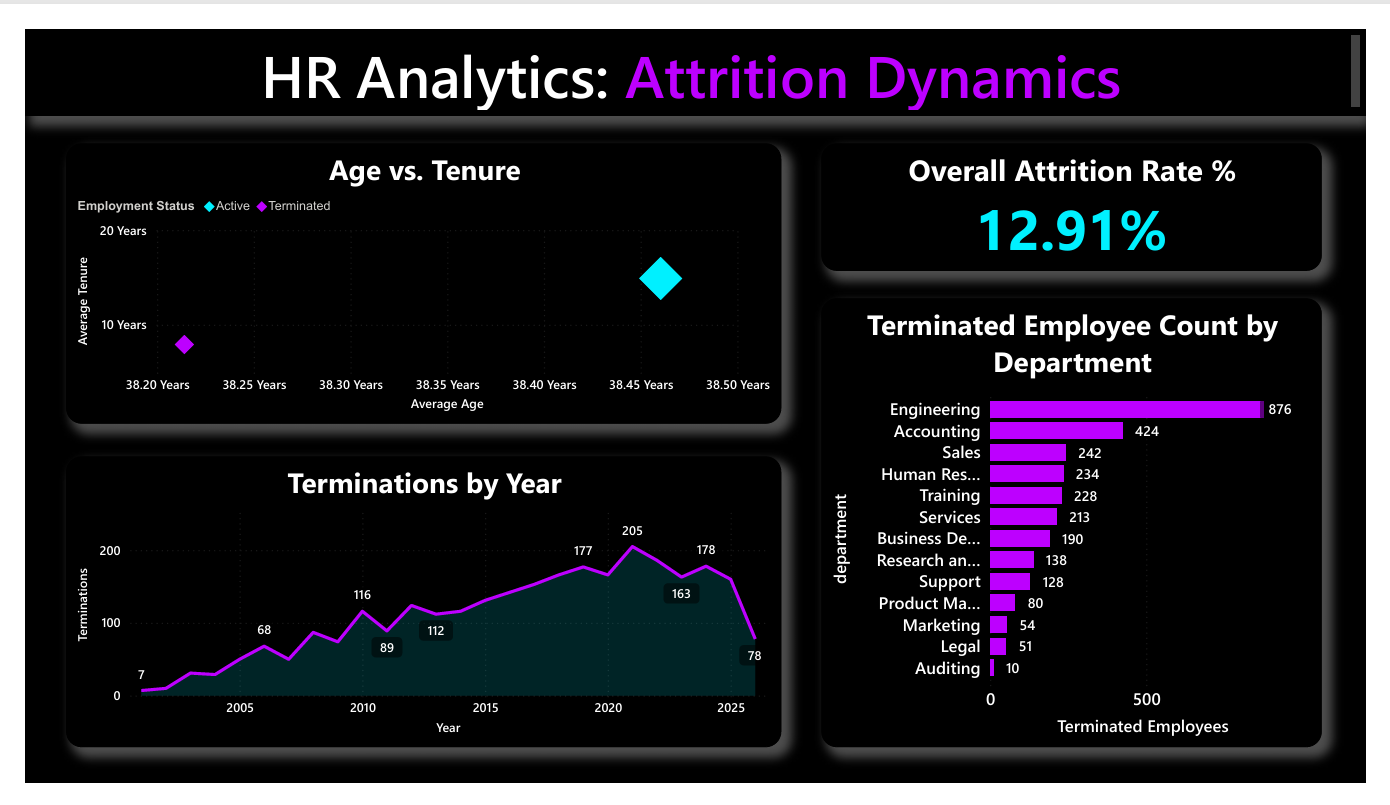

This screenshot's page, from the dashboard's own definition file:
{"tool":"powerbi","page":{"name":" Attrition & Tenure Analysis","canvas":[1280,720],"ordinal":2},"visuals":[{"type":"barChart","title":"Terminated Employee Count by Department","fields":{"Category":["Cleaned Data.department"],"Y":["CountNonNull(Cleaned Data.id)"]},"box":[759.6,257,478.2,429.4],"z":0},{"type":"lineChart","title":"Terminations by Year","fields":{"Category":["Cleaned Data.termdate.Variation.Date Hierarchy.Year"],"Y":["CountNonNull(Cleaned Data.id)"]},"box":[39,408.3,683.1,278.1],"z":1000},{"type":"scatterChart","title":"Age vs. Tenure","fields":{"X":["Avg(Cleaned Data.Age)"],"Y":["Avg(Cleaned Data.tenure_years)"],"Series":["Cleaned Data.employment_status"],"Size":["CountNonNull(Cleaned Data.id)"]},"box":[39,109,683.1,268.4],"z":2000},{"type":"card","title":"Overall Attrition Rate %","fields":{"Values":["Cleaned Data.Attrition Rate"]},"box":[759.6,109,478.2,122],"z":3000},{"type":"textbox","box":[0,0,1280.1,83],"z":4000}]}

Visuals, with their boxes in screenshot pixels (x1, y1, x2, y2), scaled from the page's 1280x720 canvas onto the 1390x805 screenshot:
"Terminated Employee Count by Department" barChart: (825, 287, 1344, 767)
"Terminations by Year" lineChart: (42, 457, 784, 767)
"Age vs. Tenure" scatterChart: (42, 122, 784, 422)
"Overall Attrition Rate %" card: (825, 122, 1344, 258)
textbox: (0, 0, 1389, 93)
